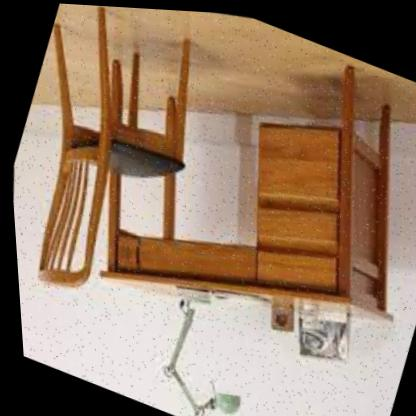Table: (10, 0, 416, 406)
